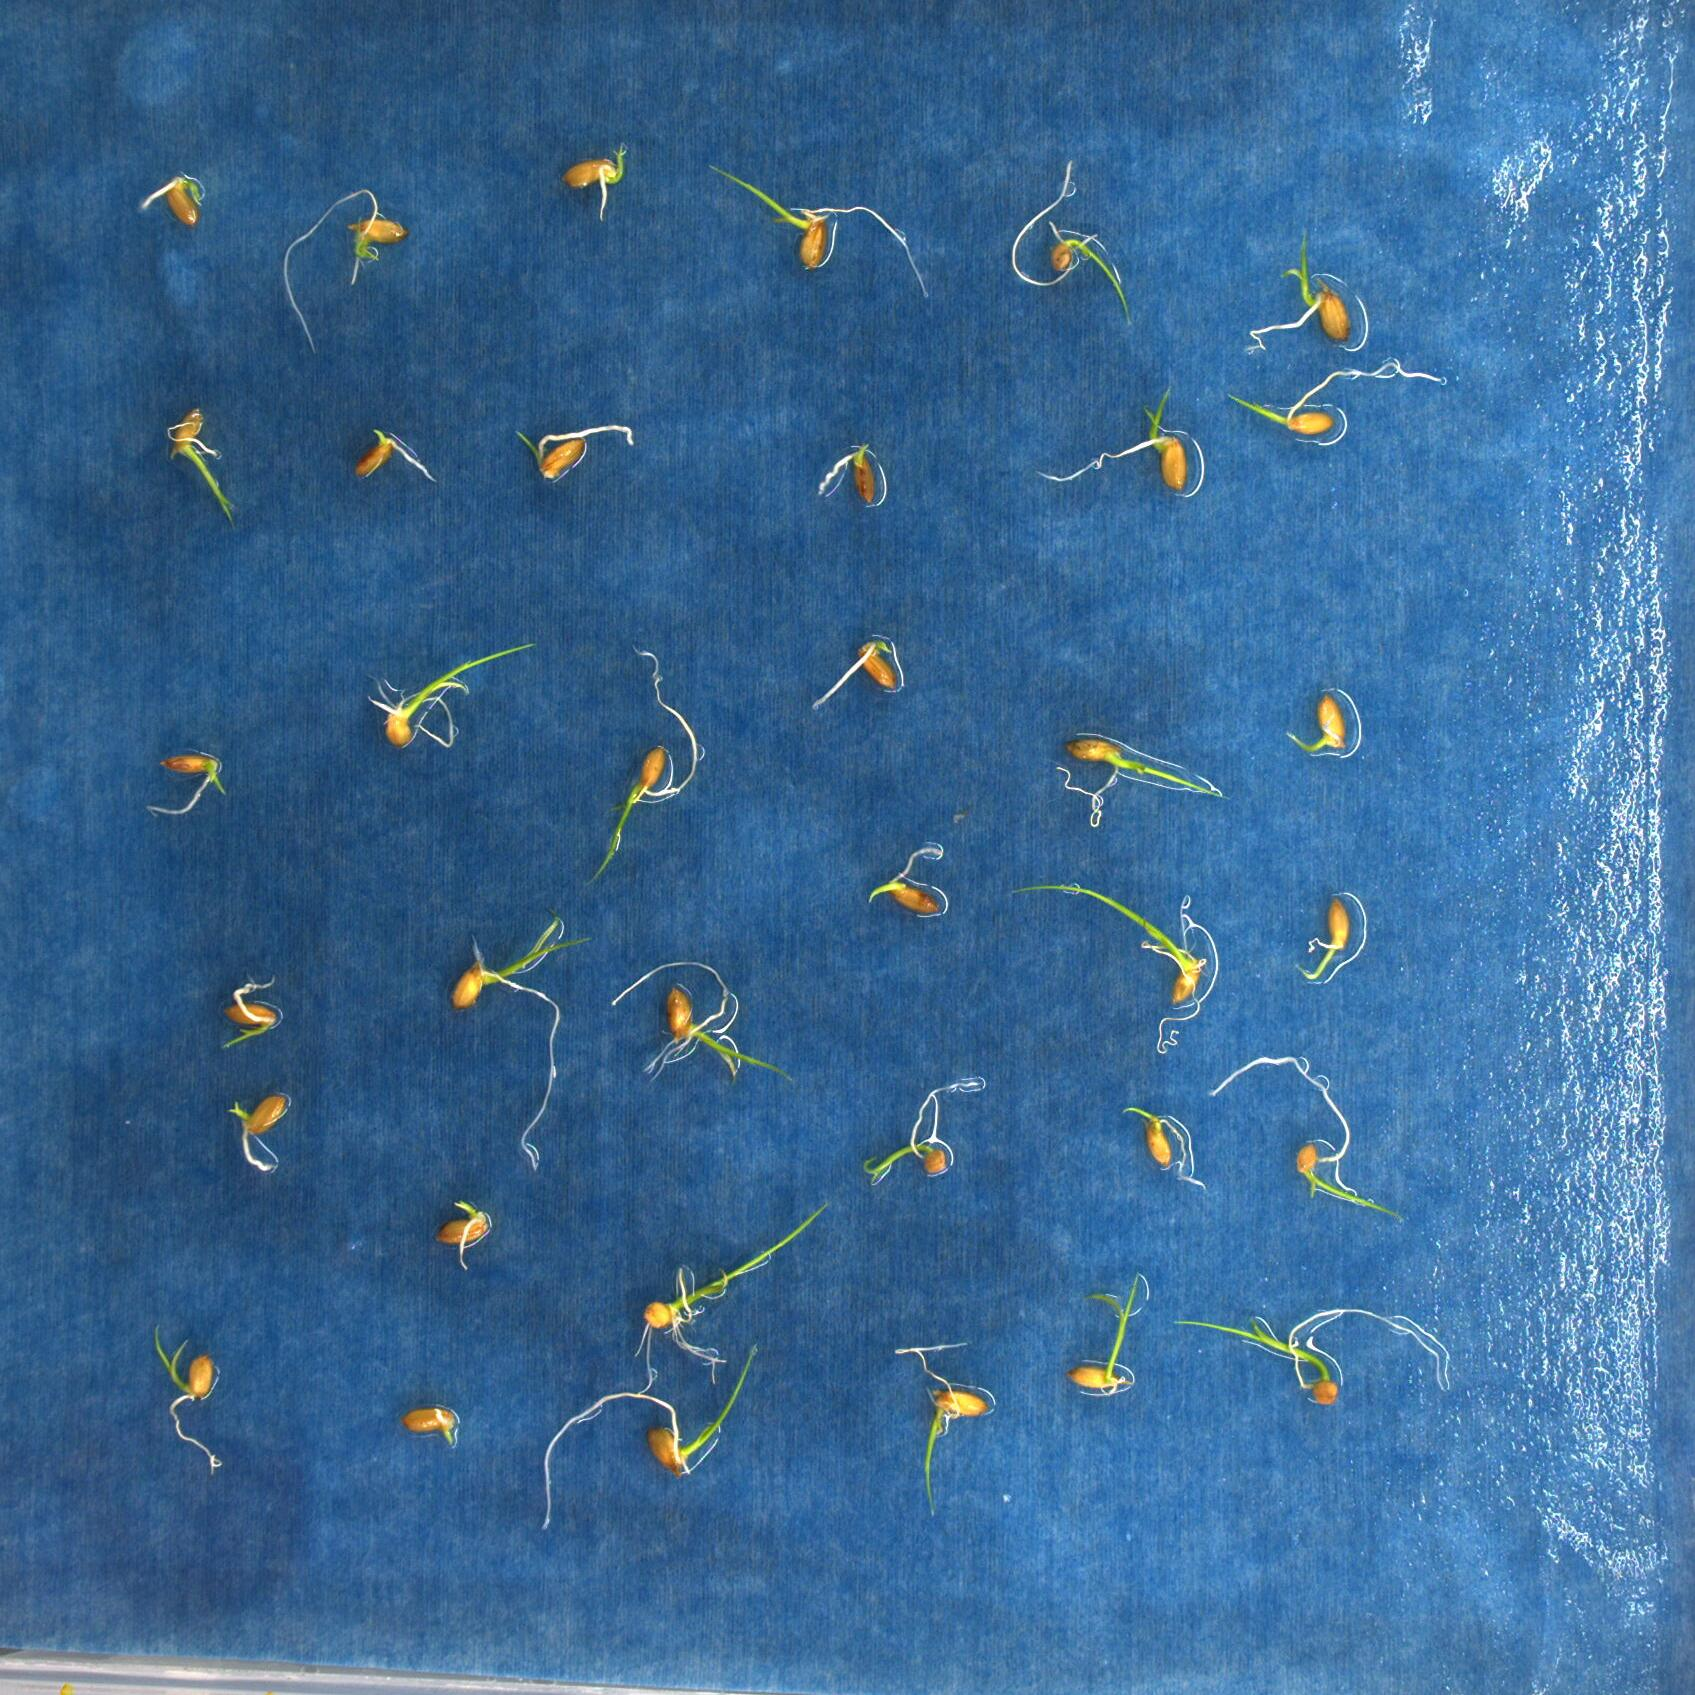not sprout: (812, 638, 900, 708), (227, 1093, 286, 1173), (351, 428, 435, 483), (818, 441, 875, 508), (141, 172, 203, 230), (404, 1406, 458, 1447)
sprout: (539, 1343, 757, 1534), (633, 1200, 827, 1395), (450, 906, 591, 1170), (1012, 883, 1211, 1055), (1212, 1055, 1405, 1223), (708, 163, 930, 300), (587, 643, 698, 886), (1170, 1307, 1444, 1406), (612, 959, 795, 1083), (281, 188, 408, 355), (1010, 160, 1133, 324), (366, 640, 534, 750), (893, 1343, 990, 1520), (1225, 360, 1444, 435), (1034, 385, 1187, 490), (1057, 734, 1229, 827), (1243, 231, 1354, 354), (863, 1079, 979, 1187), (152, 1321, 224, 1471), (1066, 1271, 1142, 1391), (168, 408, 234, 528), (1121, 1105, 1206, 1187), (514, 425, 635, 481), (560, 140, 629, 224), (868, 844, 945, 917), (144, 751, 225, 815), (217, 973, 279, 1049), (1295, 899, 1347, 981), (435, 1198, 490, 1271), (1285, 692, 1347, 753)
